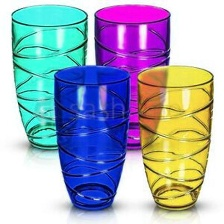glass: (51, 60, 136, 213), (134, 62, 218, 216), (91, 3, 176, 153), (9, 1, 91, 153)
